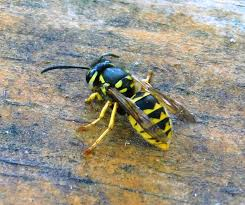chax: (28, 47, 205, 161)
